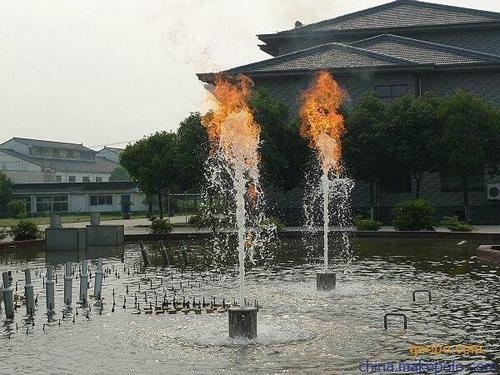fire: (196, 69, 265, 170), (297, 70, 348, 175)
